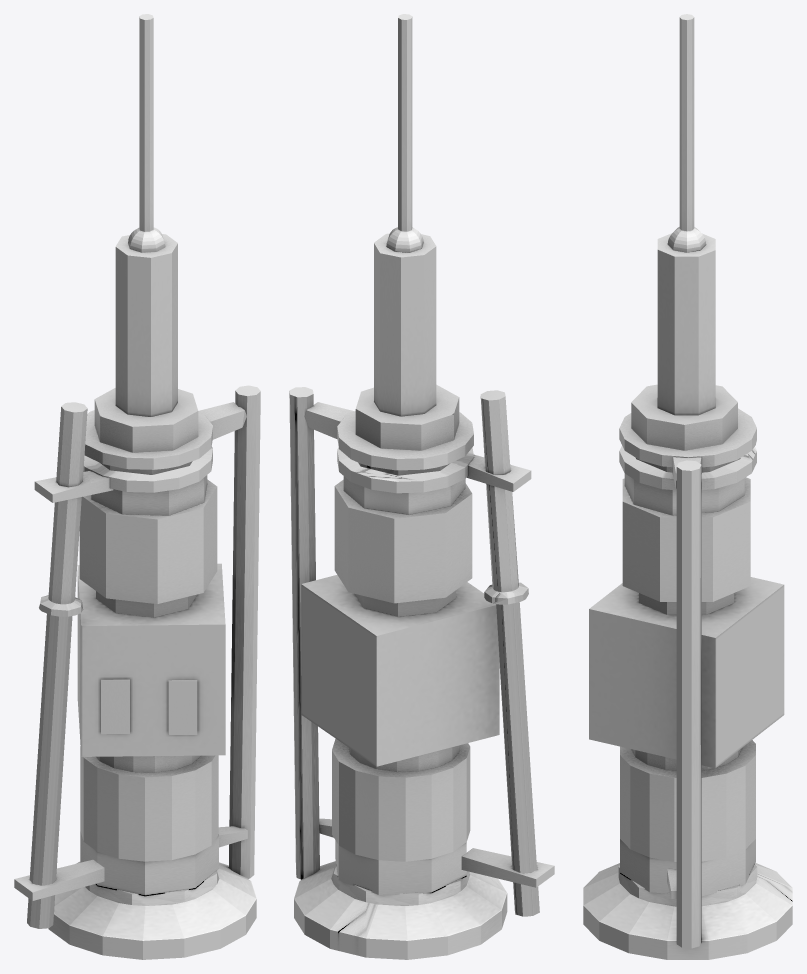
The model's file is tower.obj.
3 views of the same model, side by side, from view 1: azimuth 30°, elevation 25°; view 2: azimuth 150°, elevation 25°; view 3: azimuth 270°, elevation 25° (orthographic).
Visible parts, largest first — view 1: Antenne_tatoinne_Cylinder.016; view 2: Antenne_tatoinne_Cylinder.016; view 3: Antenne_tatoinne_Cylinder.016.
Part boxes in pixels (left/top/right/bottom): Antenne_tatoinne_Cylinder.016: left=14, top=14, right=260, bottom=959; Antenne_tatoinne_Cylinder.016: left=289, top=14, right=554, bottom=959; Antenne_tatoinne_Cylinder.016: left=583, top=14, right=792, bottom=959.
Bounding box in the file's own units: 1.12 × 3.91 × 0.8265.
